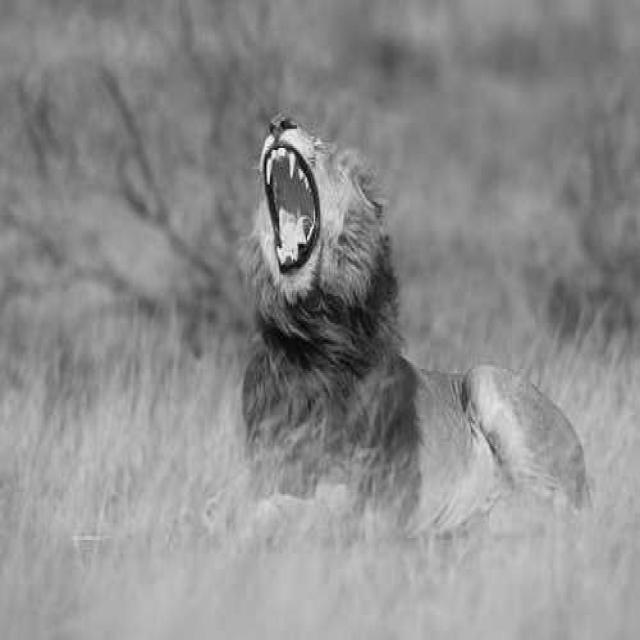Lion: (215, 73, 500, 470)
